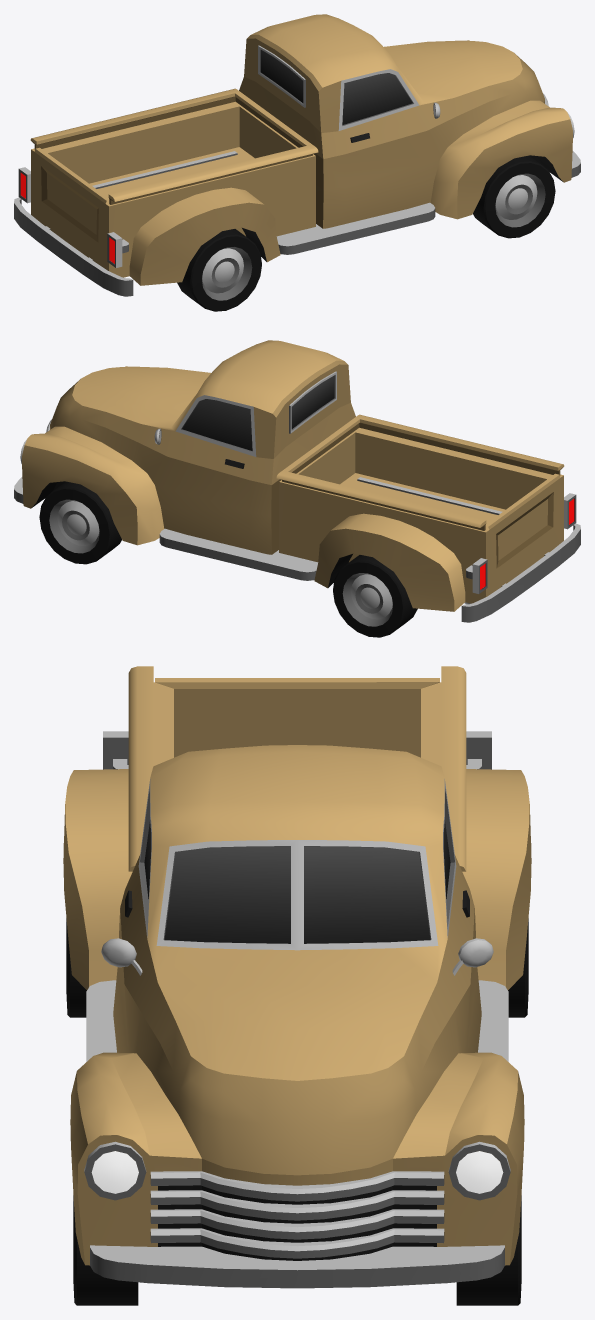
Rendered from Car_039.glb.
3 renders of one model, top to bottom at view 1: azimuth 30°, elevation 25°; view 2: azimuth 150°, elevation 25°; view 3: azimuth 270°, elevation 25°, orthographic. The views are drawn at different scales.
Visible parts, largest first — view 1: Car_039, wheel_1_Car_039_Wheel_1R, wheel_3_Car_039_Wheel_2R; view 2: Car_039, wheel_0_Car_039_Wheel_1L, wheel_2_Car_039_Wheel_2L; view 3: Car_039, wheel_0_Car_039_Wheel_1L, wheel_1_Car_039_Wheel_1R, wheel_2_Car_039_Wheel_2L, wheel_3_Car_039_Wheel_2R.
Part boxes in pixels (x1,y1,x2,y2): Car_039: (14, 14, 580, 296); wheel_1_Car_039_Wheel_1R: (473, 155, 555, 238); wheel_3_Car_039_Wheel_2R: (177, 229, 261, 311); Car_039: (14, 340, 580, 622); wheel_0_Car_039_Wheel_1L: (39, 481, 121, 564); wheel_2_Car_039_Wheel_2L: (333, 555, 417, 637); Car_039: (63, 666, 531, 1288); wheel_0_Car_039_Wheel_1L: (456, 1195, 521, 1305); wheel_1_Car_039_Wheel_1R: (73, 1195, 138, 1305); wheel_2_Car_039_Wheel_2L: (508, 918, 528, 1017); wheel_3_Car_039_Wheel_2R: (66, 918, 86, 1017).
Bounding box in the file's own units: 4.91 × 1.88 × 2.06.
2 materials, 2 textured.
